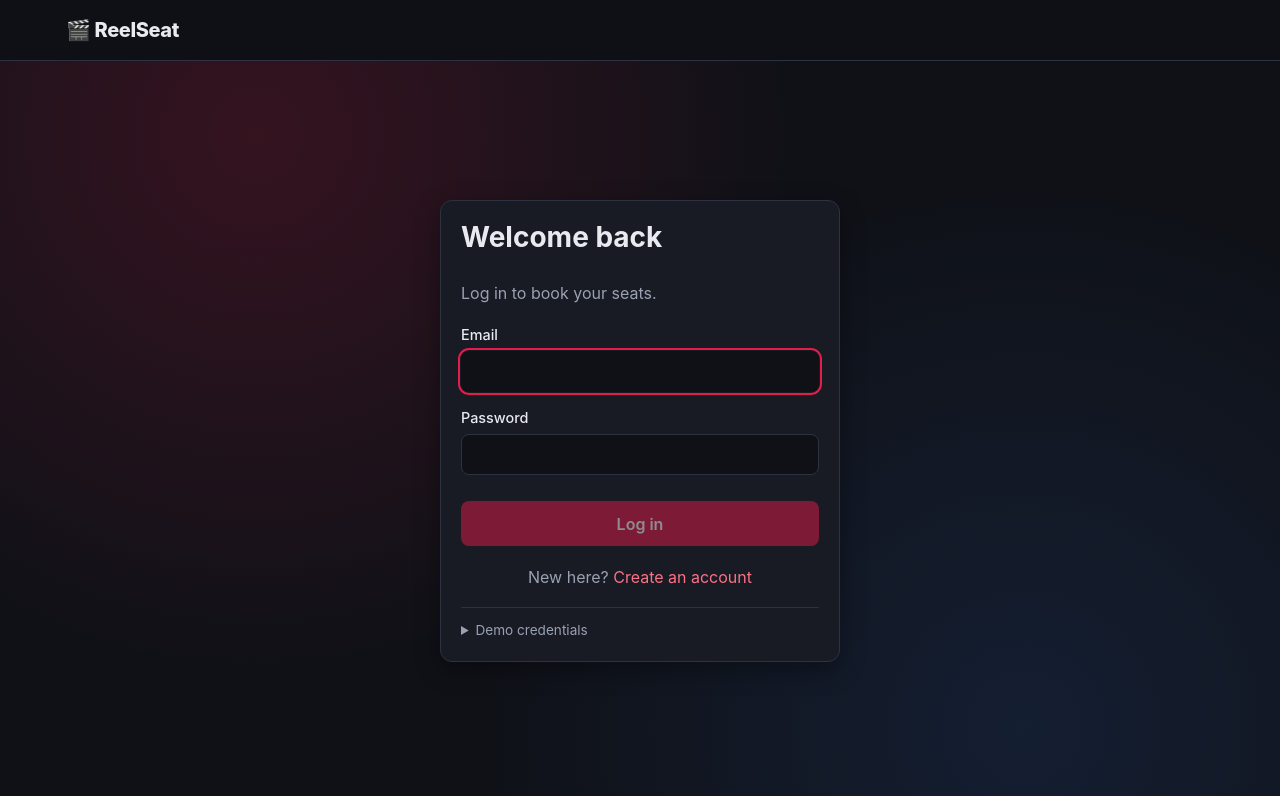
it: role-based routing › redirects an admin to the admin panel after login and sends the bearer token
The width and height of the screenshot is (1280, 796).
In the field labelled "Email": (640, 372) [461,351,819,392], type "admin@reelseat.com"
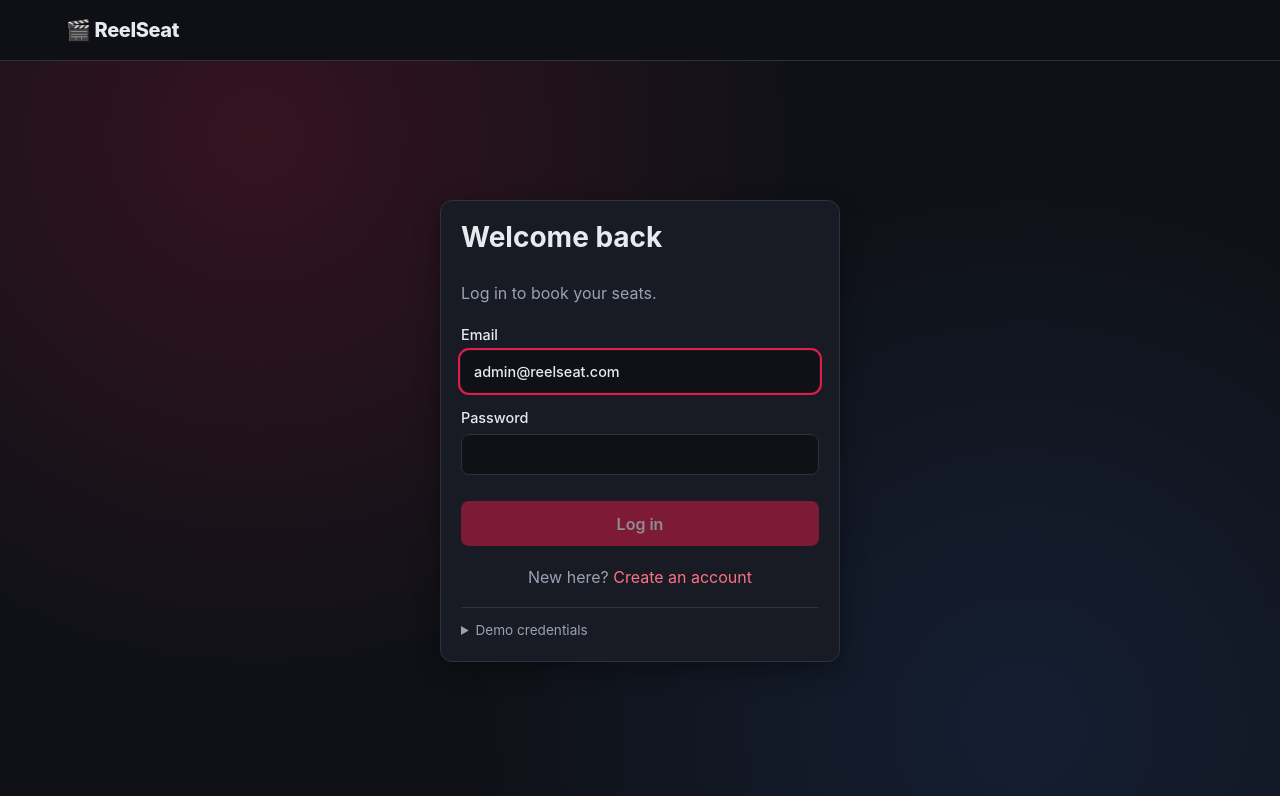
In the password field labelled "Password": (640, 454) [461,434,819,475], type "Admin@123"
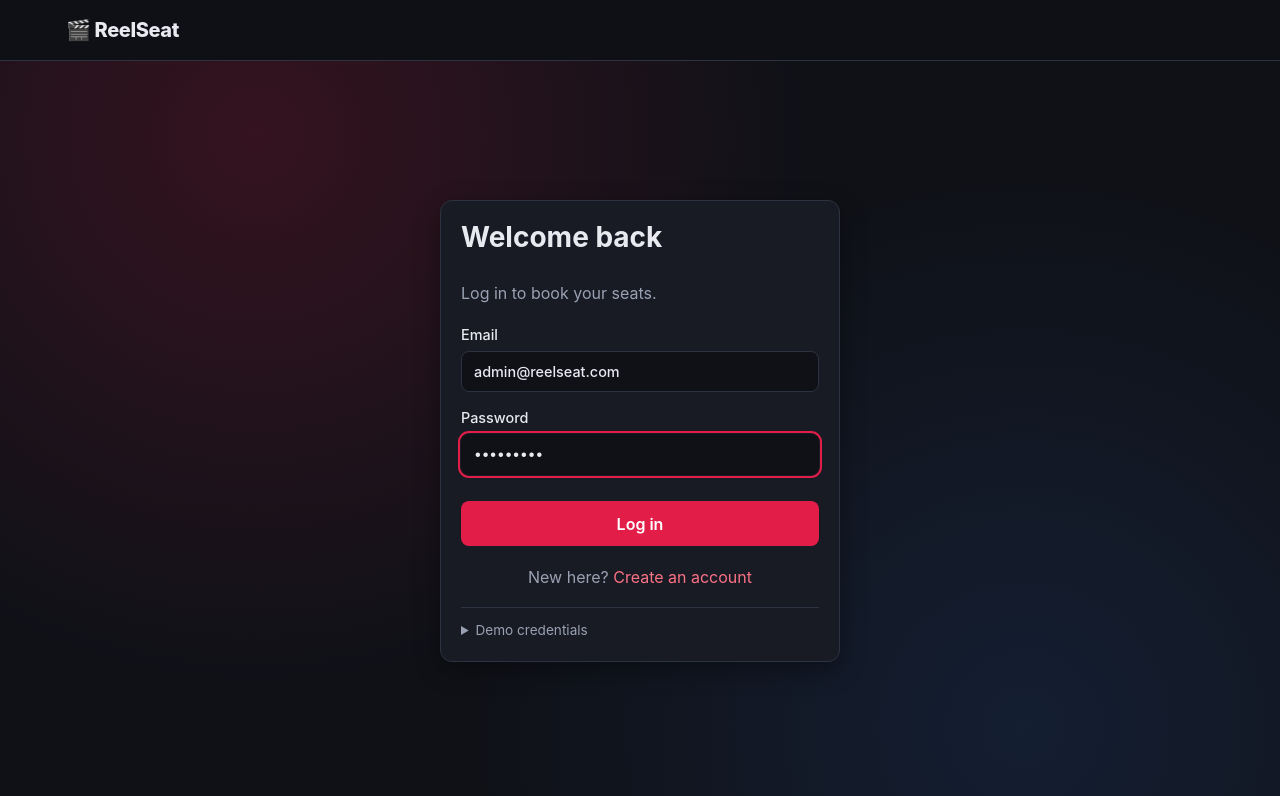
Click the button "Log in": (640, 524) [461,501,819,546]
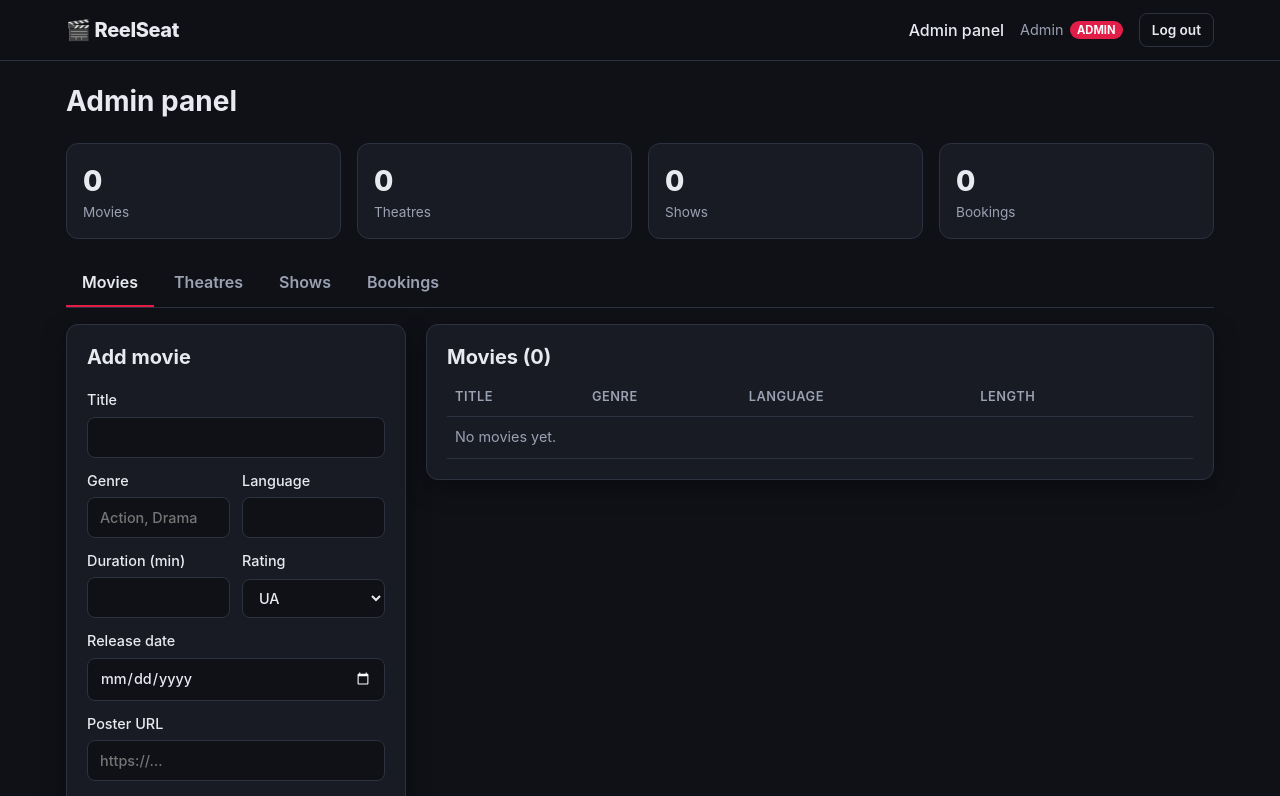
Expected: the heading "Admin panel" is shown, [66,85,237,119]
